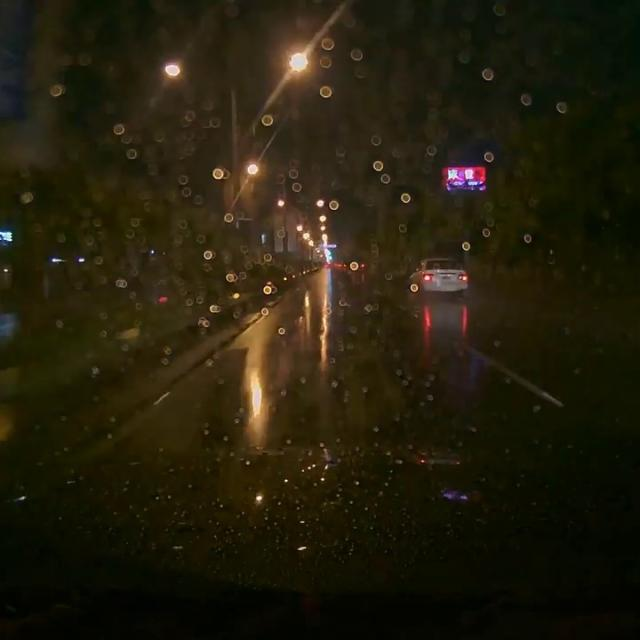Car: (405, 255, 470, 298)
